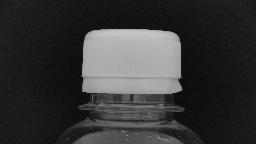Loose Cap: (70, 72, 190, 116)
